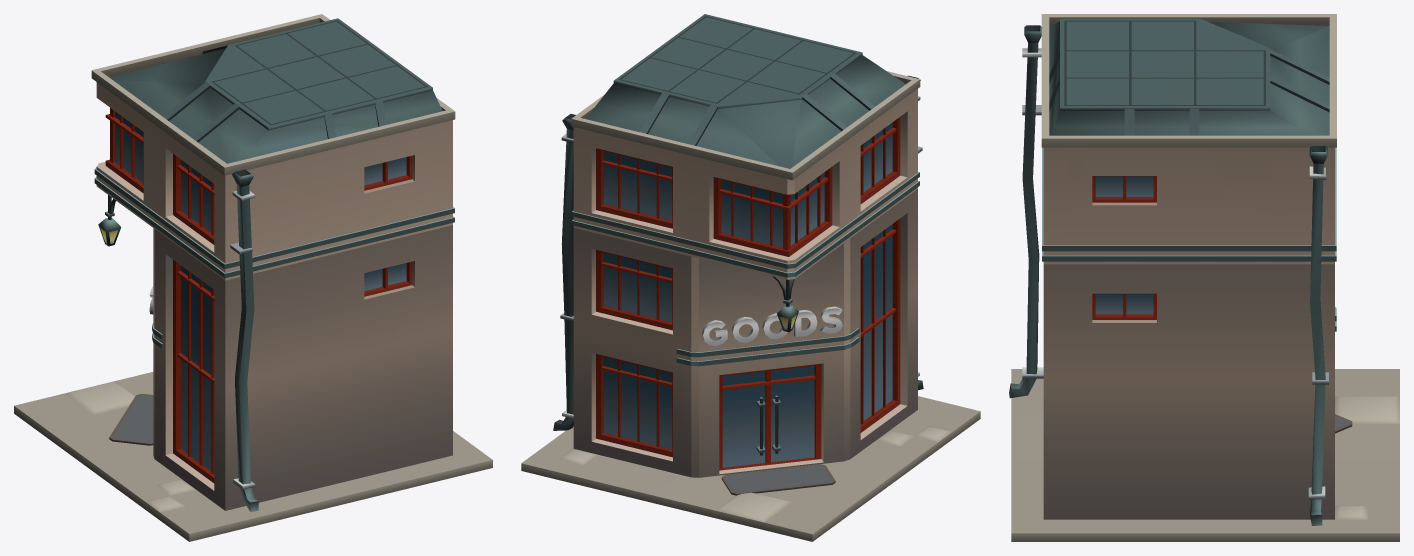
File: Building_7A.fbx
The picture shows the model from 3 angles, left to right: view 1: azimuth 30°, elevation 25°; view 2: azimuth 150°, elevation 25°; view 3: azimuth 270°, elevation 25°; orthographic projection. The views are drawn at different scales.
Visible parts, largest first — view 1: Building_7A; view 2: Building_7A; view 3: Building_7A.
Boxes of the visible parts, x1,y1,x2,y2 form: Building_7A: [14, 14, 492, 541]; Building_7A: [521, 14, 980, 541]; Building_7A: [1009, 14, 1399, 541].
Bounding box in the file's own units: 368 × 430 × 368.
